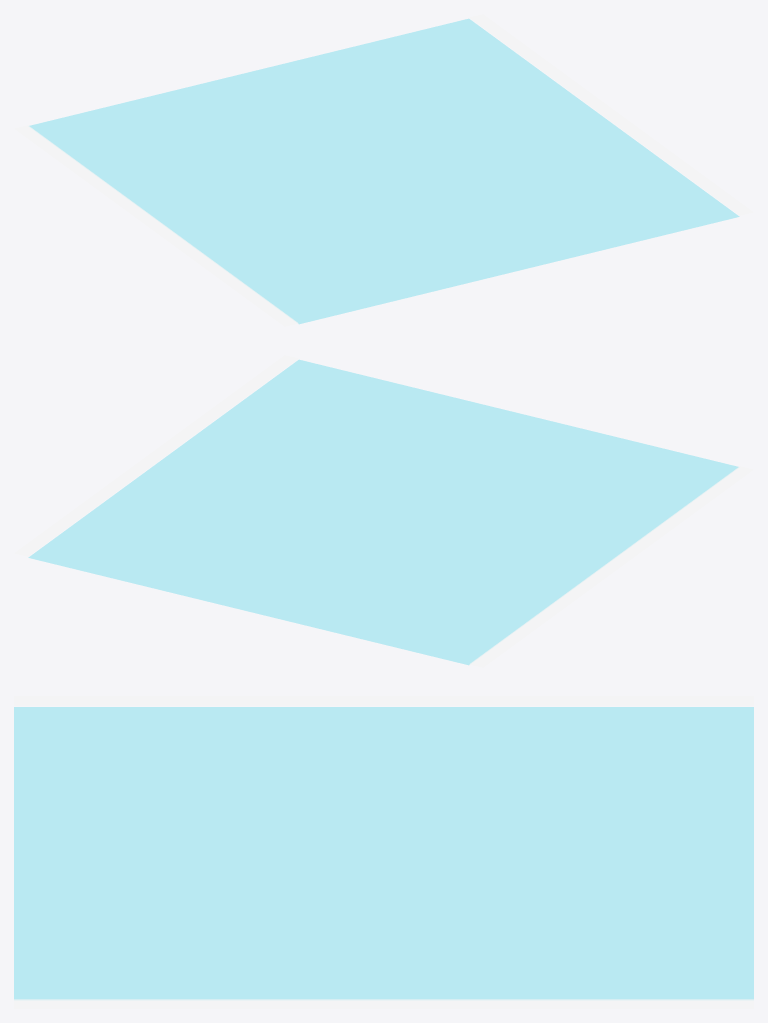
The model's file is trail_ribbon.glb.
3 renders of one model, top to bottom at view 1: azimuth 30°, elevation 25°; view 2: azimuth 150°, elevation 25°; view 3: azimuth 270°, elevation 25°, orthographic. The views are drawn at different scales.
Visible parts, largest first — view 1: Ribbon; view 2: Ribbon; view 3: Ribbon.
Part boxes in pixels (bbox=[...]): Ribbon: bbox=[14, 14, 753, 326]; Ribbon: bbox=[14, 355, 753, 667]; Ribbon: bbox=[14, 696, 753, 1008].
Size of the model in its own units: 1 by 0.002 by 1.
